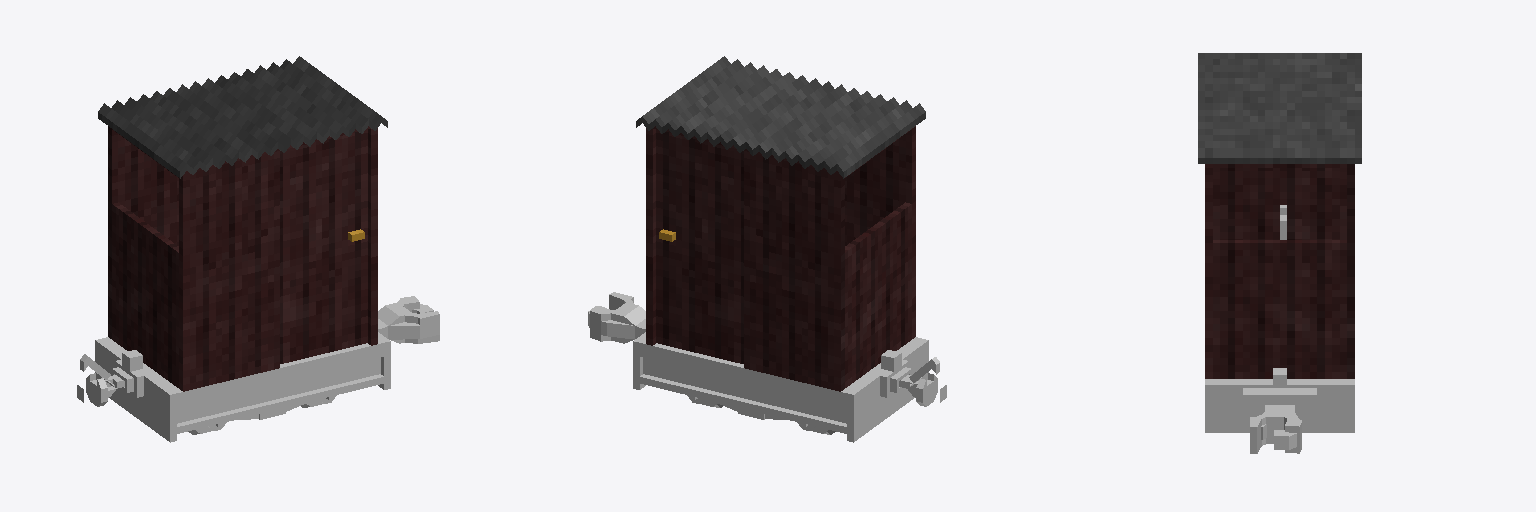
The picture shows the model from 3 angles: view 1: azimuth 30°, elevation 25°; view 2: azimuth 150°, elevation 25°; view 3: azimuth 270°, elevation 25°; orthographic projection.
Parts seen in each view (by area): view 1: Cube, Cube.001, DOOR_4_TL_-0.6875_X_EXTERNAL, FRAME_top, COUPLED_REAR_4_HIDE_INVERT, COUPLER_ENGAGED_FRONT_1_TOGGLE_LABEL_Uncouple_Cube.016; view 2: Cube, Cube.001, DOOR_3_TL_-0.6875_X_EXTERNAL, FRAME_top, COUPLED_REAR_4_HIDE_INVERT, COUPLER_ENGAGED_FRONT_1_TOGGLE_LABEL_Uncouple_Cube.016; view 3: Cube, Cube.001, FRAME_top, COUPLED_REAR_4_HIDE_INVERT, COUPLER_ENGAGED_REAR_2_TOGGLE_LABEL_Uncouple.
Boxes of the visible parts, x1,y1,x2,y2 form: Cube: [108, 126, 377, 391]; Cube.001: [98, 56, 387, 178]; DOOR_4_TL_-0.6875_X_EXTERNAL: [280, 130, 367, 363]; FRAME_top: [95, 332, 390, 442]; COUPLED_REAR_4_HIDE_INVERT: [378, 296, 439, 343]; COUPLER_ENGAGED_FRONT_1_TOGGLE_LABEL_Uncouple_Cube.016: [77, 359, 143, 406]; Cube: [646, 126, 915, 391]; Cube.001: [636, 56, 925, 178]; DOOR_3_TL_-0.6875_X_EXTERNAL: [656, 130, 743, 363]; FRAME_top: [633, 332, 928, 442]; COUPLED_REAR_4_HIDE_INVERT: [588, 292, 645, 343]; COUPLER_ENGAGED_FRONT_1_TOGGLE_LABEL_Uncouple_Cube.016: [880, 359, 946, 406]; Cube: [1205, 164, 1354, 378]; Cube.001: [1198, 53, 1361, 163]; FRAME_top: [1205, 379, 1354, 432]; COUPLED_REAR_4_HIDE_INVERT: [1250, 405, 1301, 453]; COUPLER_ENGAGED_REAR_2_TOGGLE_LABEL_Uncouple: [1243, 388, 1316, 428].
Size of the model in its own units: 3.38 by 2.75 by 1.38.
5 materials, 1 textured.